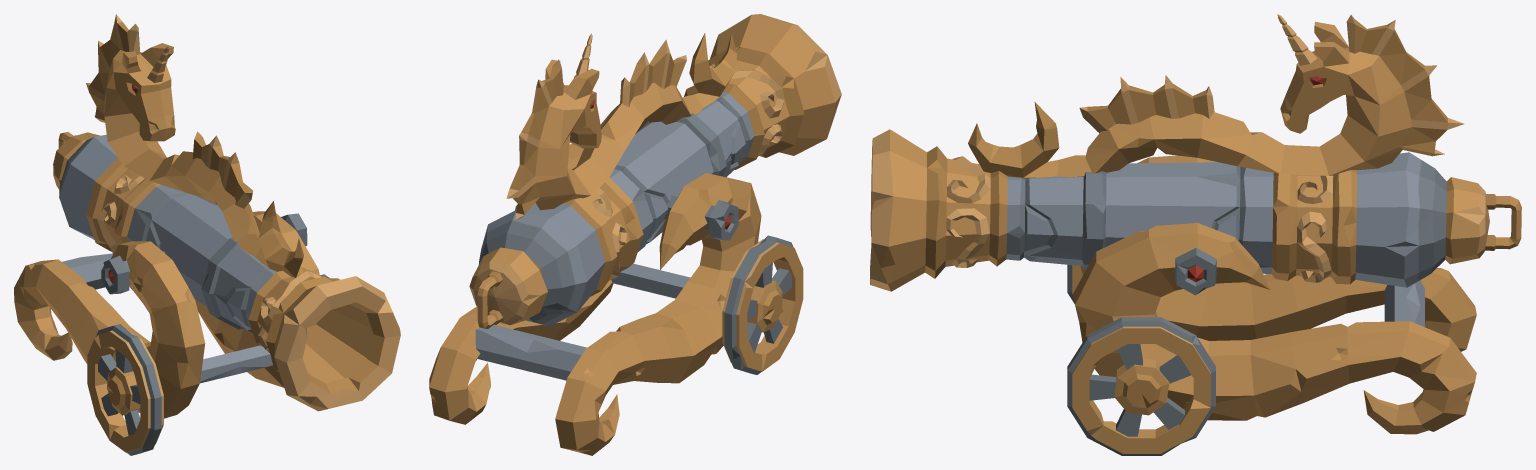
File: SM_Wep_Cannon_02.fbx
3 renders of one model, left to right at view 1: azimuth 30°, elevation 25°; view 2: azimuth 150°, elevation 25°; view 3: azimuth 270°, elevation 25°, orthographic. The views are drawn at different scales.
Visible parts, largest first — view 1: SM_Wep_Cannon_02_Cannon, SM_Wep_Cannon_02, SM_Wep_Cannon_02_Wheel_R, SM_Wep_Cannon_02_Cannon_Handle; view 2: SM_Wep_Cannon_02_Cannon, SM_Wep_Cannon_02, SM_Wep_Cannon_02_Wheel_R, SM_Wep_Cannon_02_Cannon_Handle; view 3: SM_Wep_Cannon_02_Cannon, SM_Wep_Cannon_02, SM_Wep_Cannon_02_Wheel_L, SM_Wep_Cannon_02_Cannon_Handle.
Boxes of the visible parts, x1=… form: SM_Wep_Cannon_02_Cannon: x1=59, y1=14, x2=400, y2=411; SM_Wep_Cannon_02: x1=14, y1=211, x2=319, y2=418; SM_Wep_Cannon_02_Wheel_R: x1=87, y1=324, x2=163, y2=455; SM_Wep_Cannon_02_Cannon_Handle: x1=53, y1=132, x2=99, y2=189; SM_Wep_Cannon_02_Cannon: x1=478, y1=14, x2=841, y2=326; SM_Wep_Cannon_02: x1=429, y1=143, x2=761, y2=455; SM_Wep_Cannon_02_Wheel_R: x1=722, y1=235, x2=803, y2=374; SM_Wep_Cannon_02_Cannon_Handle: x1=469, y1=247, x2=547, y2=328; SM_Wep_Cannon_02_Cannon: x1=870, y1=14, x2=1464, y2=295; SM_Wep_Cannon_02: x1=1073, y1=155, x2=1476, y2=434; SM_Wep_Cannon_02_Wheel_L: x1=1067, y1=317, x2=1215, y2=455; SM_Wep_Cannon_02_Cannon_Handle: x1=1445, y1=177, x2=1521, y2=264.
Bounding box in the file's own units: 130 × 183 × 281.
